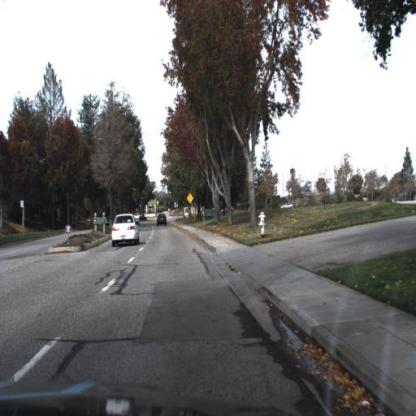car: (109, 212, 142, 252), (156, 214, 169, 228)
